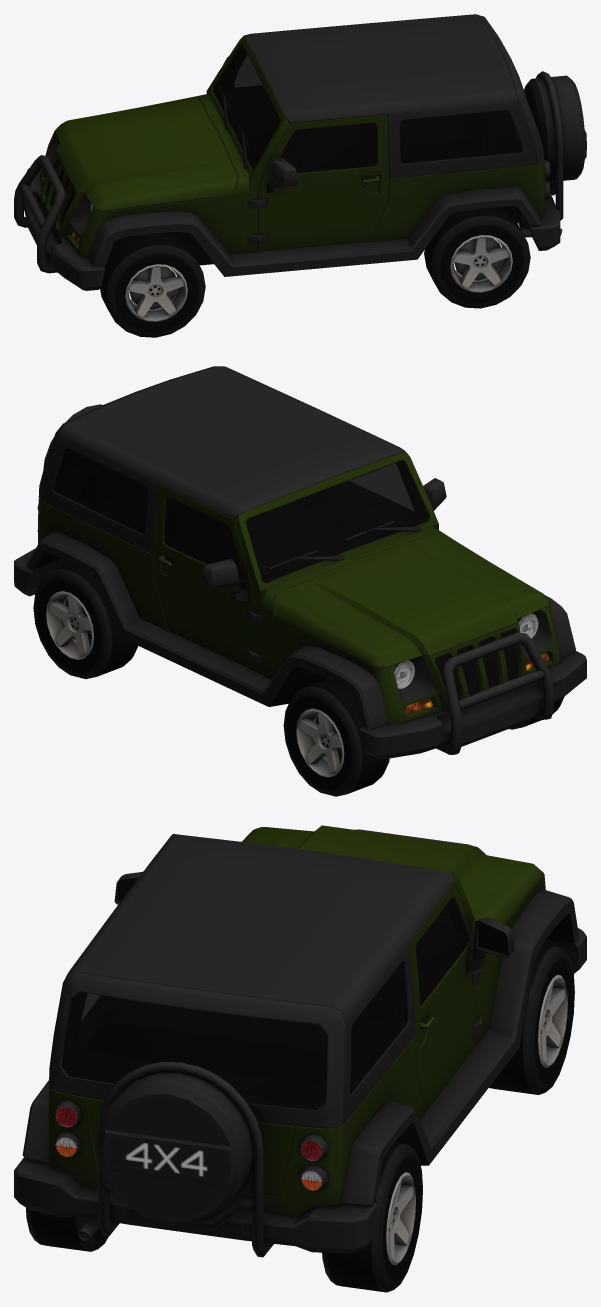
The model's file is zeep.glb.
3 views of the same model, one above another, from view 1: azimuth 30°, elevation 25°; view 2: azimuth 150°, elevation 25°; view 3: azimuth 270°, elevation 25° (orthographic). The views are drawn at different scales.
Visible parts, largest first — view 1: Offroad Body, Wheel_G, Wheel_G001; view 2: Offroad Body, Wheel_G001_Wheel_0.001, Wheel_G002; view 3: Offroad Body, Wheel_G002, Wheel_G001_Wheel_0.001, Wheel_G001.
Part boxes in pixels (bbox=[...]): Offroad Body: bbox=[14, 14, 586, 290]; Wheel_G: bbox=[100, 232, 205, 337]; Wheel_G001: bbox=[424, 207, 530, 308]; Offroad Body: bbox=[14, 366, 586, 759]; Wheel_G001_Wheel_0.001: bbox=[283, 678, 389, 796]; Wheel_G002: bbox=[33, 563, 137, 679]; Offroad Body: bbox=[14, 825, 586, 1257]; Wheel_G002: bbox=[322, 1142, 422, 1292]; Wheel_G001_Wheel_0.001: bbox=[489, 944, 574, 1094]; Wheel_G001: bbox=[26, 1208, 108, 1251].
Bounding box in the file's own units: 3.97 × 1.57 × 2.71.
4 materials, 3 textured.
